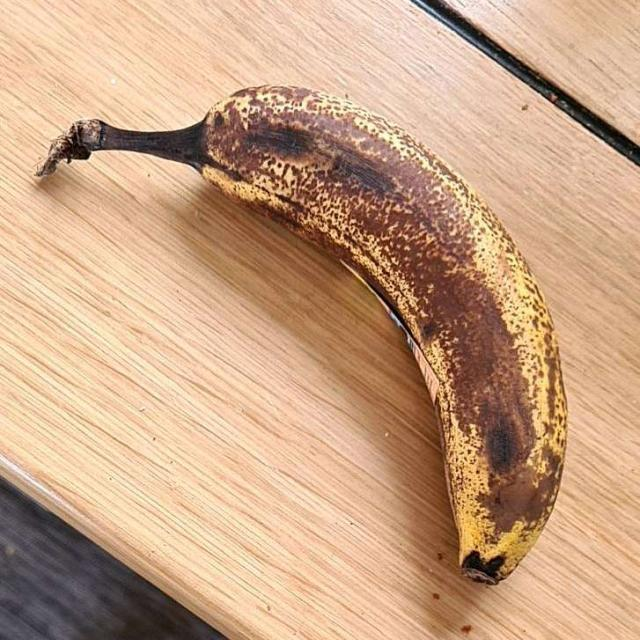banana: (111, 96, 560, 574)
